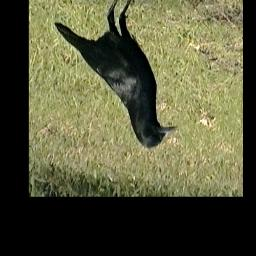Crow: (54, 0, 178, 149)
